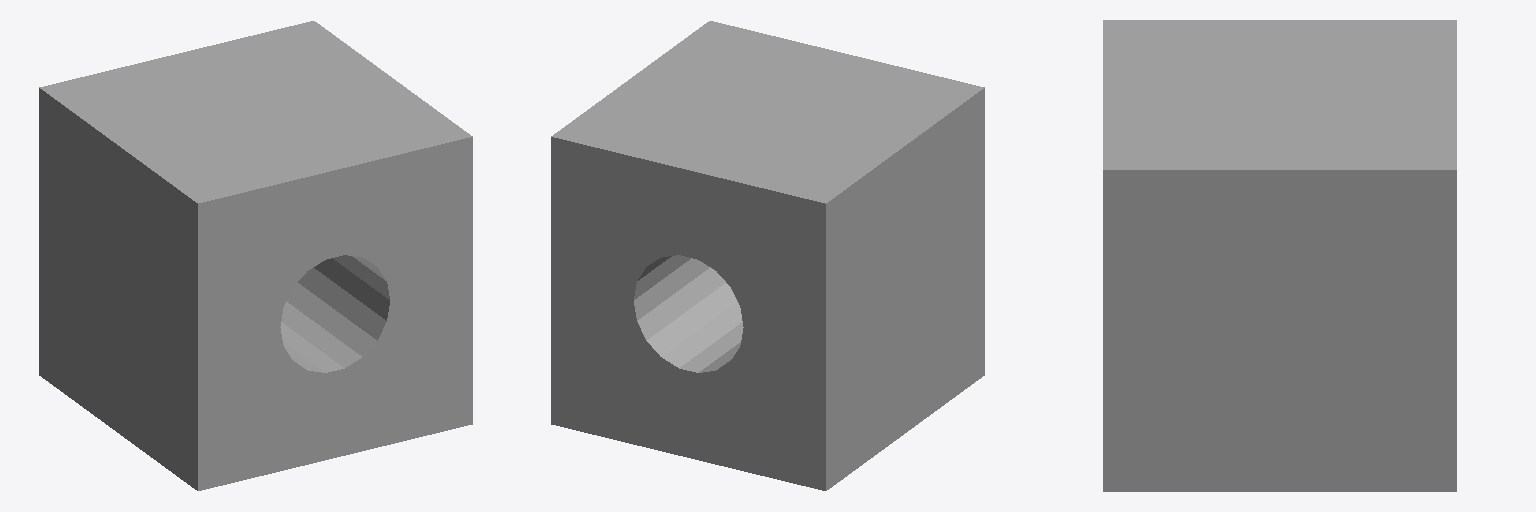
The robot description file, URDF, robot "hole":
<robot name="hole">

<link name="hole_link">
<visual>
<geometry>
<mesh filename="package://ur_desc/meshes/hole.dae"/>
</geometry>
<material name="LightGrey">
<color rgba="0.7 0.7 0.7 1.0"/>
</material>
</visual>
<collision>
<geometry>
<mesh filename="package://ur_desc/meshes/zhuangpei.STL"/>
</geometry>
</collision>
<inertial>
<mass value="4.0"/>
<origin rpy="0 0 0" xyz="0.0 0.0 0.0"/>
<inertia ixx="0.0061063308908" ixy="0.0" ixz="0.0" iyy="0.0061063308908" iyz="0.0" izz="0.01125"/>
</inertial>
</link>

</robot>

--- What the picture shows (computed from the rendered views, not written in the file) ---
3 views of the same robot in one strip: view 1: azimuth 30°, elevation 25°; view 2: azimuth 150°, elevation 25°; view 3: azimuth 270°, elevation 25° (orthographic).
Robot: hole — 1 links, 0 joints (none); root link hole_link; default pose: all joints at 0.
Visible links, largest first — view 1: hole_link; view 2: hole_link; view 3: hole_link.
Boxes of the visible links, x1=… form: hole_link: x1=39, y1=21, x2=472, y2=490; hole_link: x1=551, y1=21, x2=984, y2=490; hole_link: x1=1103, y1=20, x2=1456, y2=491.
Bounding box of the posed robot: 0.05 × 0.05 × 0.05 m (x, y, z).
1 mesh visuals loaded from 1 distinct referenced files (1 Collada DAE).
